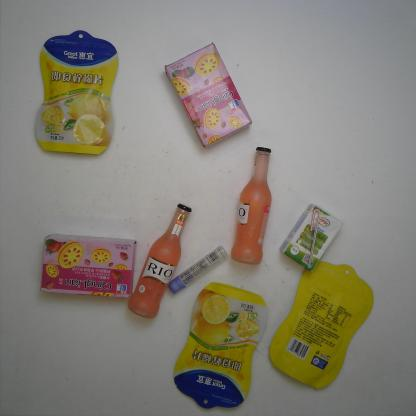Alcohol: (124, 201, 193, 321), (227, 145, 275, 267)
Dessert: (165, 41, 255, 152), (39, 231, 141, 303)
Dried Fruit: (264, 256, 375, 391), (172, 281, 270, 410), (31, 28, 122, 159)
Milk: (277, 202, 346, 275)
Stationery: (165, 244, 229, 296)
